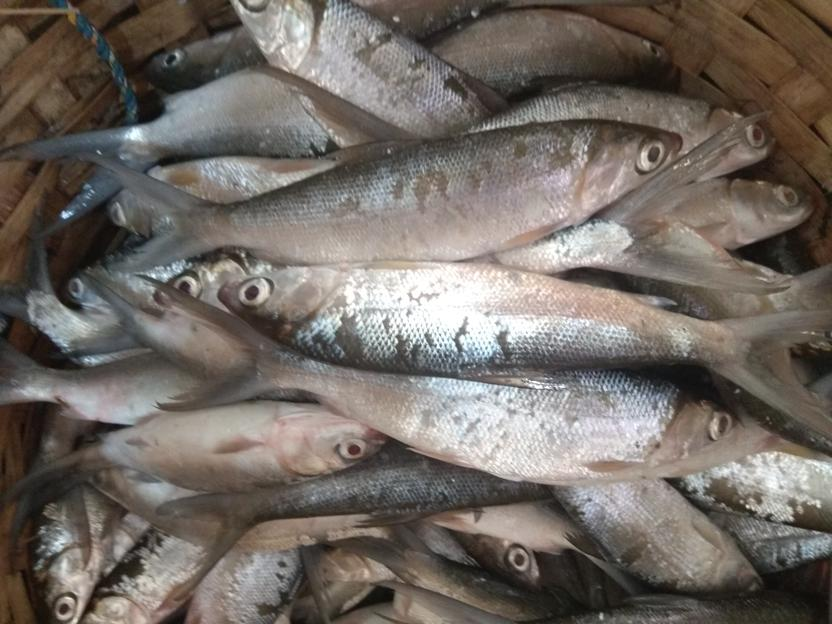Fish head: (214, 260, 349, 335), (576, 119, 683, 213), (272, 397, 386, 481), (225, 1, 320, 73), (153, 249, 248, 317), (697, 103, 775, 179), (667, 390, 739, 467), (37, 543, 105, 623), (726, 180, 811, 241), (147, 29, 234, 87), (463, 531, 544, 592), (603, 24, 668, 85)
Fish tail: (605, 111, 791, 297), (131, 271, 277, 413), (67, 148, 225, 273), (1, 124, 139, 248), (714, 307, 832, 440), (249, 65, 422, 145), (41, 262, 154, 361), (157, 489, 255, 602), (368, 577, 520, 624), (1, 197, 55, 323), (697, 542, 767, 596)
